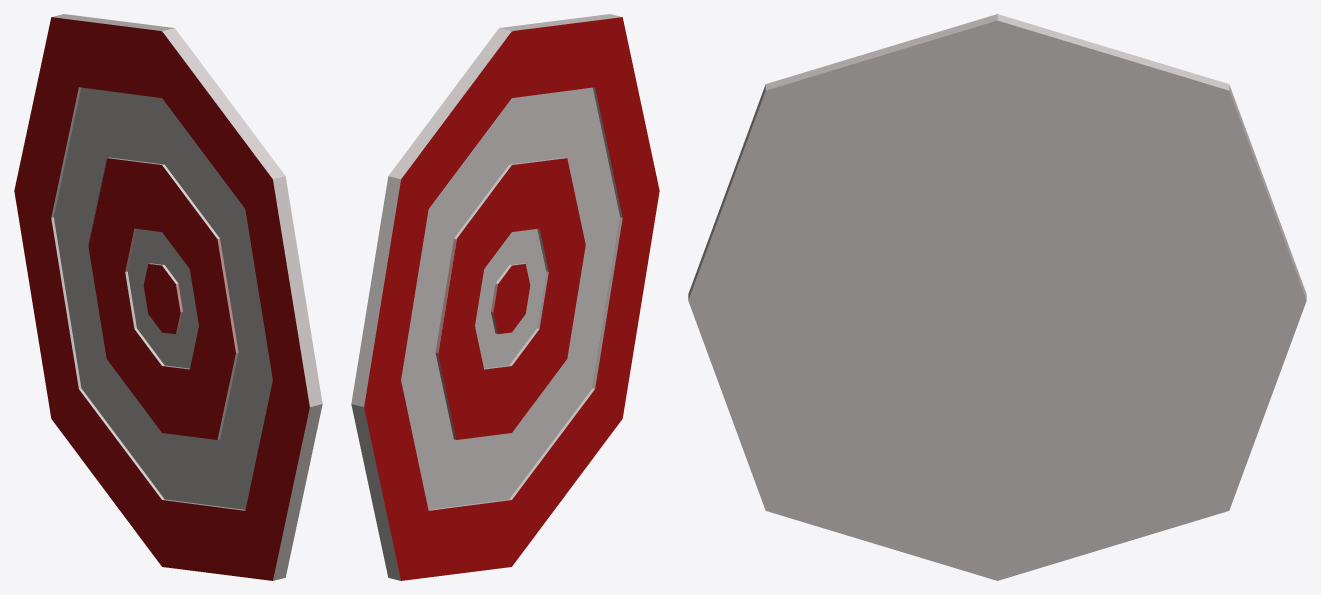
File: dart target.glb
The picture shows the model from 3 angles, left to right: view 1: azimuth 30°, elevation 25°; view 2: azimuth 150°, elevation 25°; view 3: azimuth 270°, elevation 25°; orthographic projection. The views are drawn at different scales.
Visible parts, largest first — view 1: Target; view 2: Target; view 3: Target.
Part boxes in pixels (x1=…): Target: x1=14, y1=14, x2=322, y2=580; Target: x1=351, y1=14, x2=659, y2=580; Target: x1=688, y1=14, x2=1306, y2=580.
Size of the model in its own units: 0.05 by 2 by 2.
Materials: 1 (1 with a texture image).
